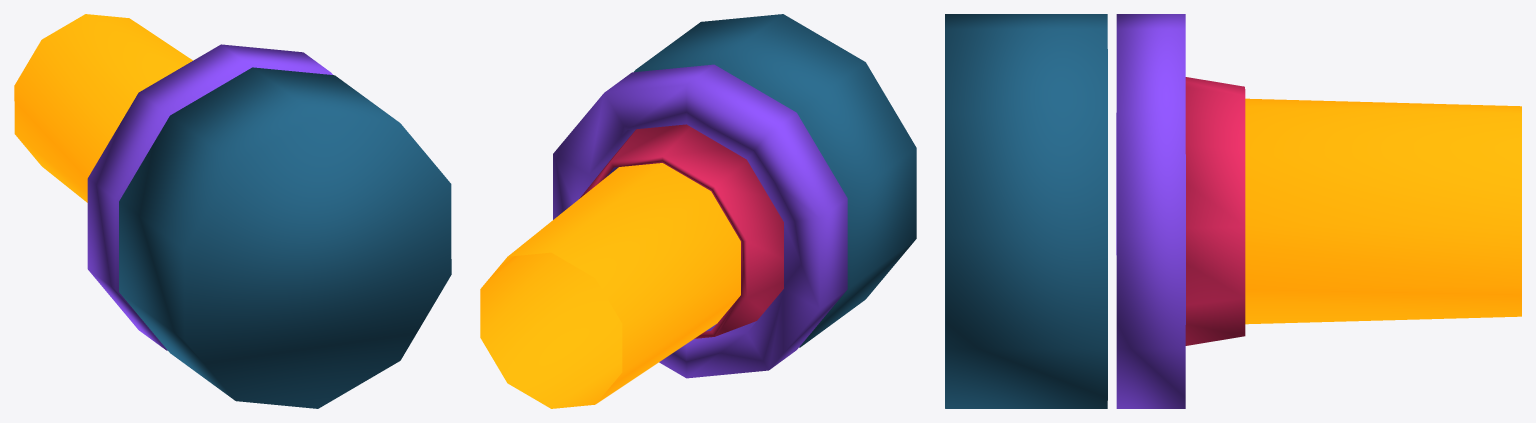
The model's file is boost.glb.
3 views of the same model, side by side, from view 1: azimuth 30°, elevation 25°; view 2: azimuth 150°, elevation 25°; view 3: azimuth 270°, elevation 25° (orthographic). The views are drawn at different scales.
Parts seen in each view (by area): view 1: boost.002, boost-part.008; view 2: boost.002, boost-part.008; view 3: boost.002, boost-part.008.
Part boxes in pixels (x1,y1,x2,y2): boost.002: (87, 44, 451, 408); boost-part.008: (14, 14, 192, 202); boost.002: (553, 14, 916, 378); boost-part.008: (480, 163, 740, 408); boost.002: (945, 14, 1245, 408); boost-part.008: (1245, 98, 1521, 324).
Bounding box in the file's own units: 0.1201 × 0.1262 × 0.181.
